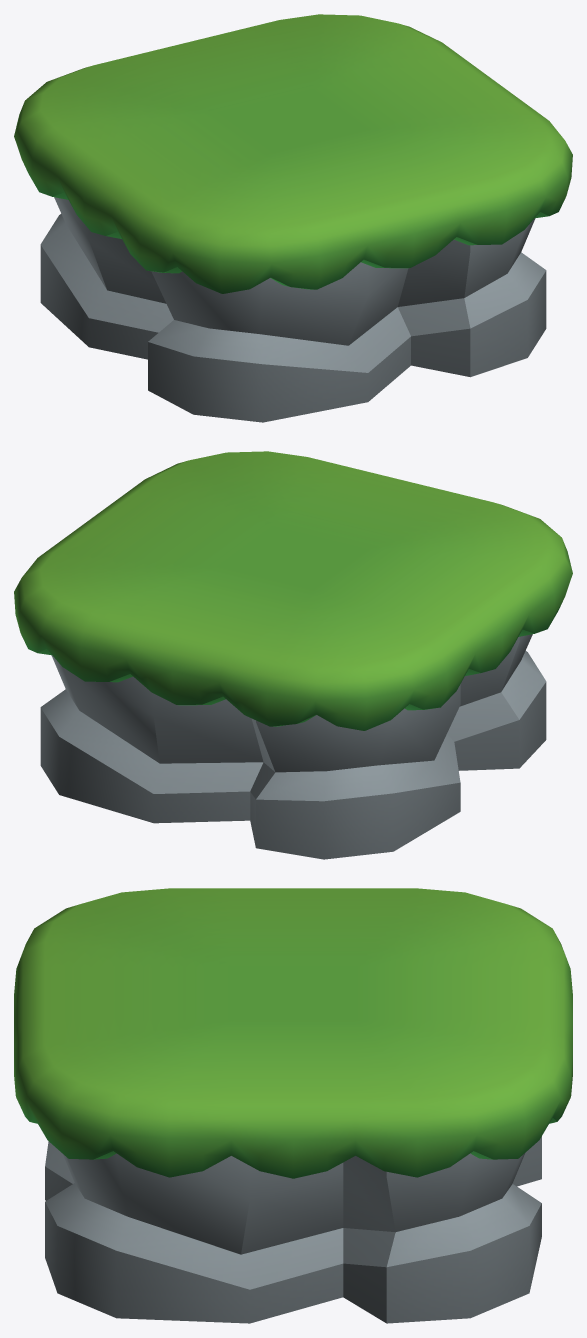
Rendered from Hill_4x4x2_Color1.gltf.
3 views of the same model, one above another, from view 1: azimuth 30°, elevation 25°; view 2: azimuth 150°, elevation 25°; view 3: azimuth 270°, elevation 25° (orthographic). The views are drawn at different scales.
Visible parts, largest first — view 1: Hill_4x4x2_Color1; view 2: Hill_4x4x2_Color1; view 3: Hill_4x4x2_Color1.
Part boxes in pixels (x1=…): Hill_4x4x2_Color1: x1=14, y1=14, x2=572, y2=422; Hill_4x4x2_Color1: x1=14, y1=451, x2=572, y2=859; Hill_4x4x2_Color1: x1=14, y1=888, x2=572, y2=1323.
Bounding box in the file's own units: 4.5 × 2 × 4.5.
Materials: 1 (1 with a texture image).
